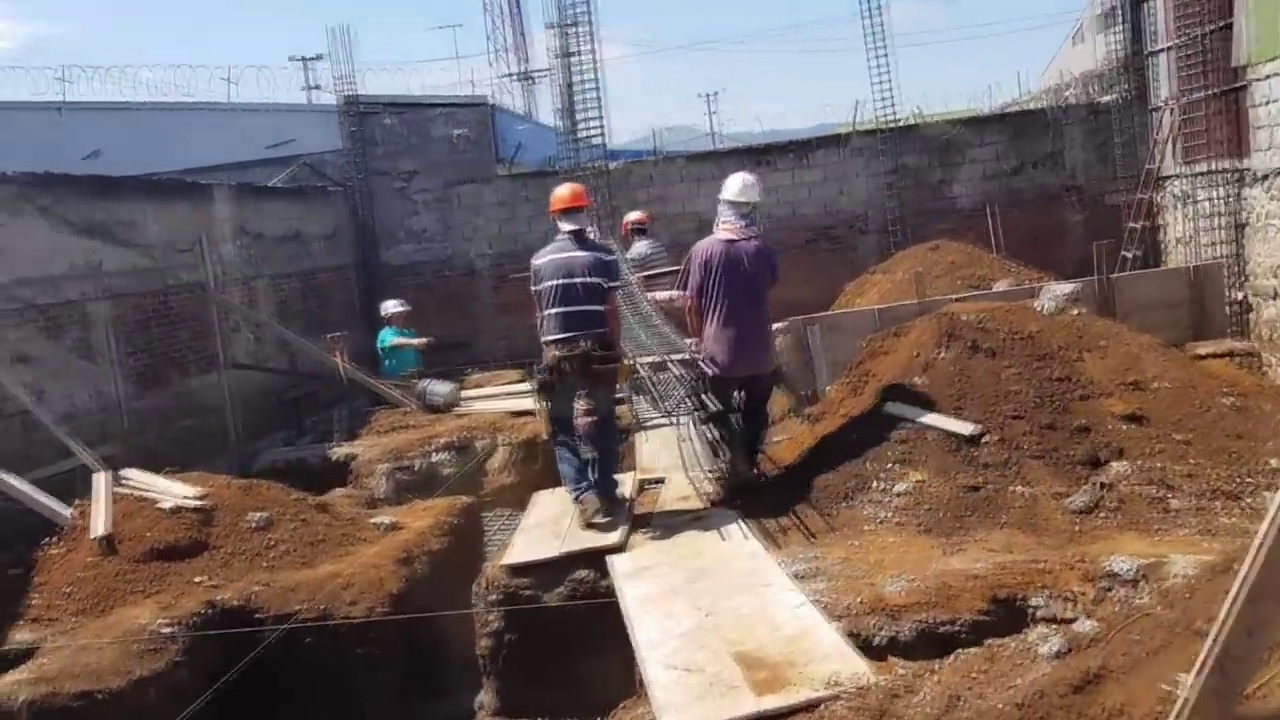helmet: (713, 171, 764, 209), (546, 183, 597, 216), (620, 210, 648, 236), (380, 300, 402, 321)
helmet-on: (712, 174, 764, 242), (546, 183, 597, 239), (620, 210, 649, 244), (378, 300, 410, 328)
person: (533, 181, 647, 534), (678, 173, 784, 504), (616, 208, 669, 302), (372, 298, 417, 377)
